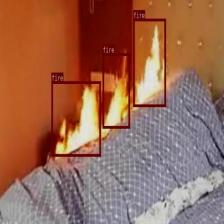fire: (52, 81, 100, 156), (133, 19, 166, 106), (103, 53, 130, 128)
